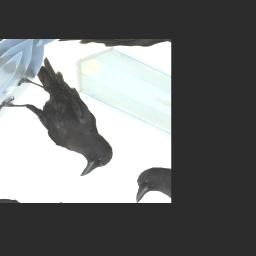Crow: (0, 53, 151, 184)
